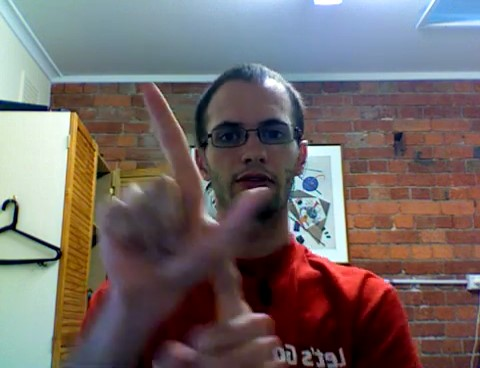Y: (84, 77, 305, 364)
